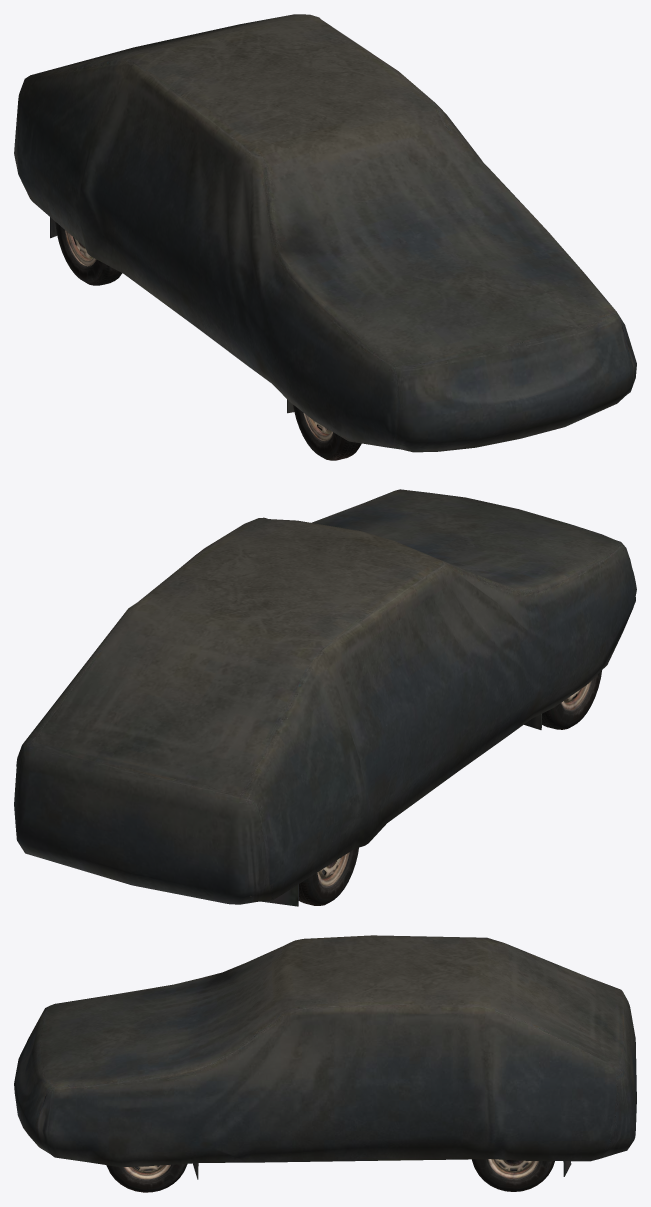
File: covered_car.glb
3 views of the same model, one above another, from view 1: azimuth 30°, elevation 25°; view 2: azimuth 150°, elevation 25°; view 3: azimuth 270°, elevation 25° (orthographic). The views are drawn at different scales.
Visible parts, largest first — view 1: covered_car, covered_car_wheel_03, covered_car_wheel_02; view 2: covered_car, covered_car_wheel_03, covered_car_wheel_02; view 3: covered_car, covered_car_wheel_04, covered_car_wheel_01.
Boxes of the visible parts, box(x1,y1,x2,y2) form: covered_car: box(14, 14, 636, 452); covered_car_wheel_03: box(55, 222, 122, 285); covered_car_wheel_02: box(293, 405, 361, 460); covered_car: box(14, 489, 636, 906); covered_car_wheel_03: box(298, 847, 358, 905); covered_car_wheel_02: box(542, 670, 601, 729); covered_car: box(14, 935, 636, 1179); covered_car_wheel_04: box(472, 1159, 554, 1191); covered_car_wheel_01: box(106, 1163, 187, 1192).
Size of the model in its own units: 1.79 by 1.41 by 4.38.
2 materials, 2 textured.
